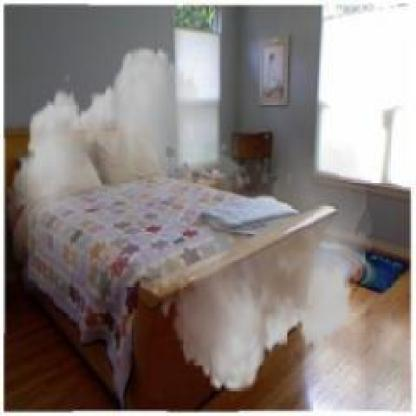Smoke: (8, 36, 372, 403)
